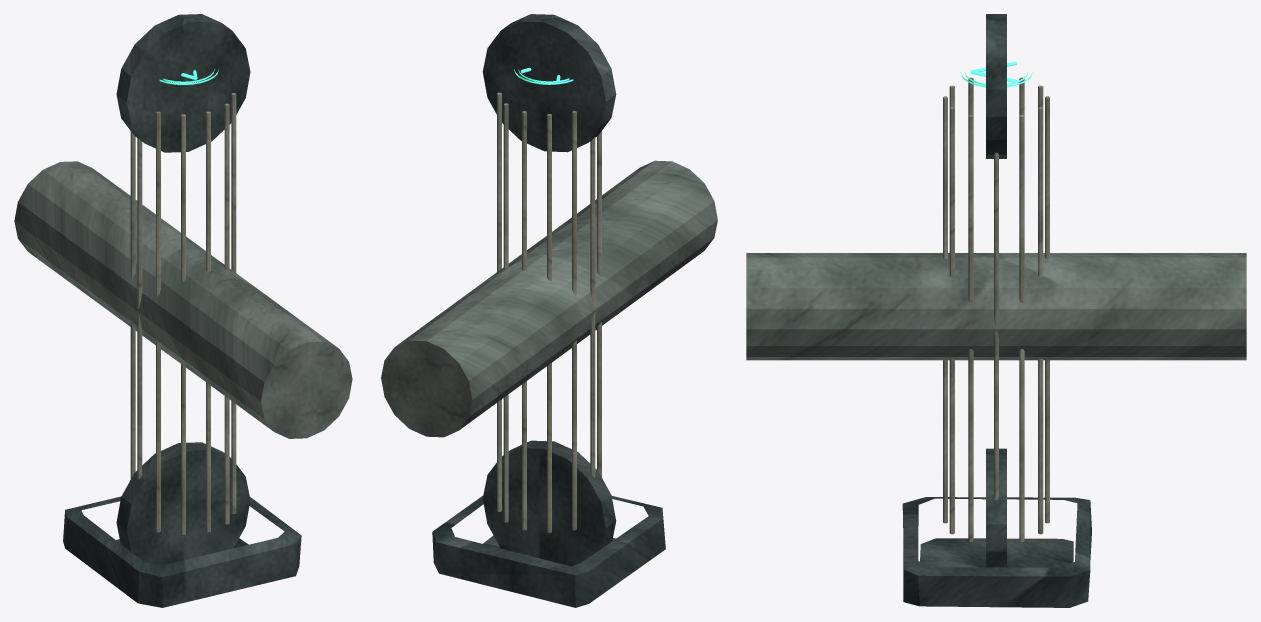
File: 0291_fluted_column_16.glb
3 renders of one model, left to right at view 1: azimuth 30°, elevation 25°; view 2: azimuth 150°, elevation 25°; view 3: azimuth 270°, elevation 25°, orthographic.
Parts seen in each view (by area): view 1: stone, stone_dark, stone_light; view 2: stone, stone_dark, stone_light; view 3: stone, stone_dark, stone_light.
Part boxes in pixels (left/top/right/bottom): stone: left=14, top=161, right=352, bottom=438; stone_dark: left=63, top=14, right=301, bottom=607; stone_light: left=130, top=93, right=236, bottom=534; stone: left=381, top=160, right=717, bottom=437; stone_dark: left=432, top=14, right=665, bottom=607; stone_light: left=497, top=92, right=601, bottom=532; stone: left=746, top=253, right=1246, bottom=360; stone_dark: left=902, top=14, right=1091, bottom=607; stone_light: left=943, top=77, right=1049, bottom=541.
Size of the model in its own units: 1.27 by 4.18 by 3.35.
4 materials, 4 textured.
